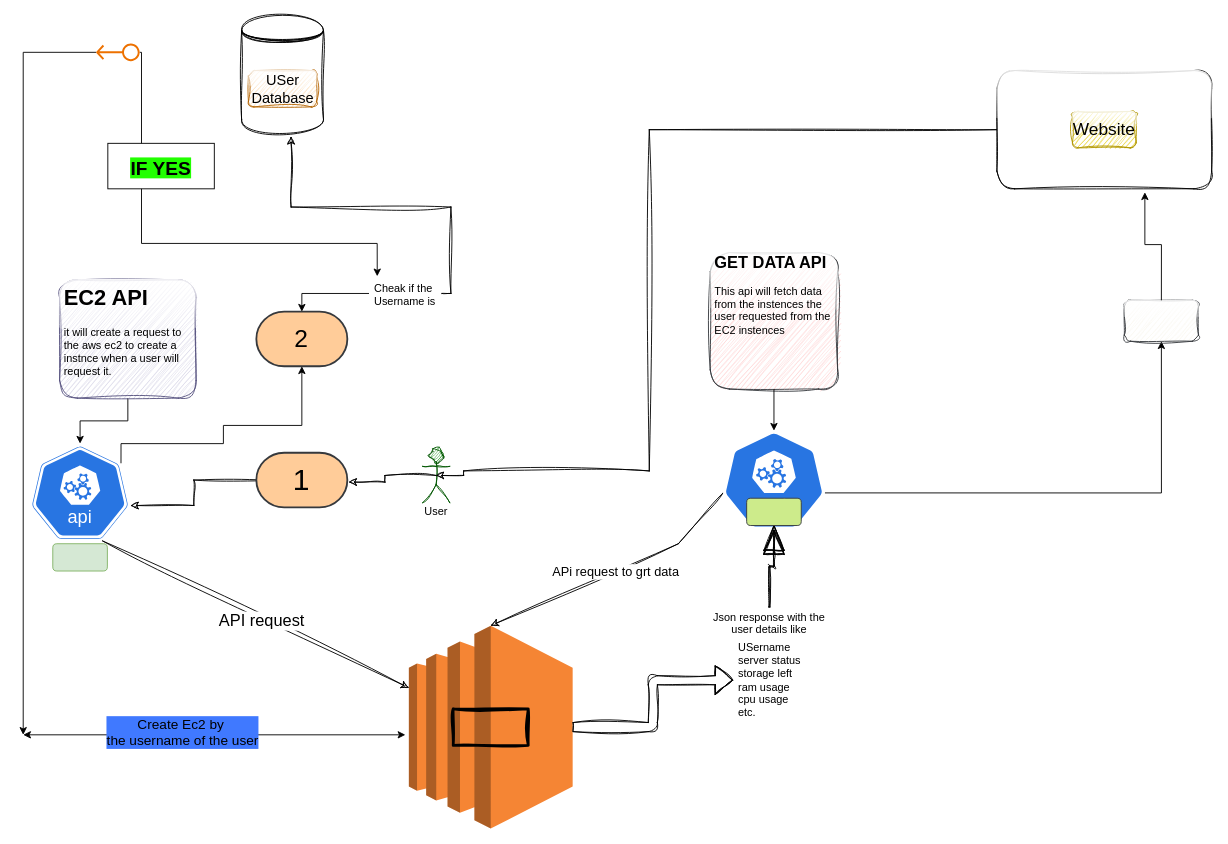
Some shapes in this 1228 by 844 pixel diagram are drawn without their labels. Here are the shapes that lost their labels. From the top down, the box of each, then its label:
(1123, 299, 1198, 341): PROVIDE the stats via ui
(746, 497, 801, 526): GET DATA API
(52, 543, 107, 571): EC2 API
(451, 707, 529, 746): EC2
